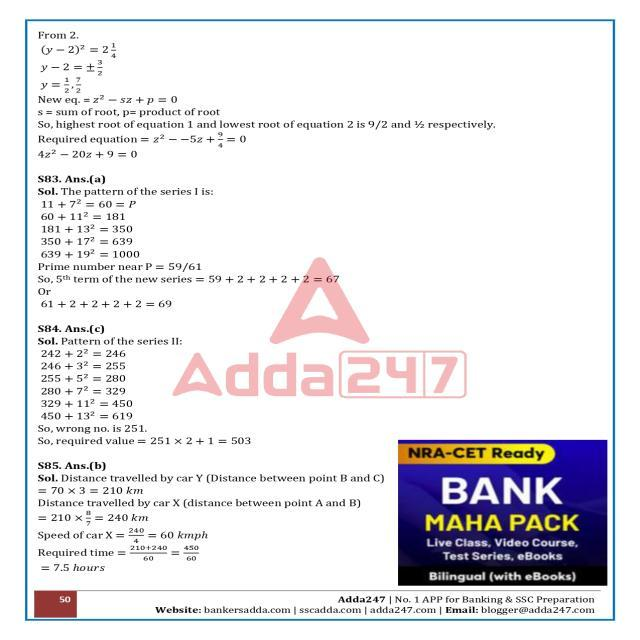Answer_Block: (30, 170, 610, 316), (29, 24, 609, 168), (28, 453, 606, 587), (29, 319, 609, 443)
Question_Paper_Area: (32, 25, 612, 588)
